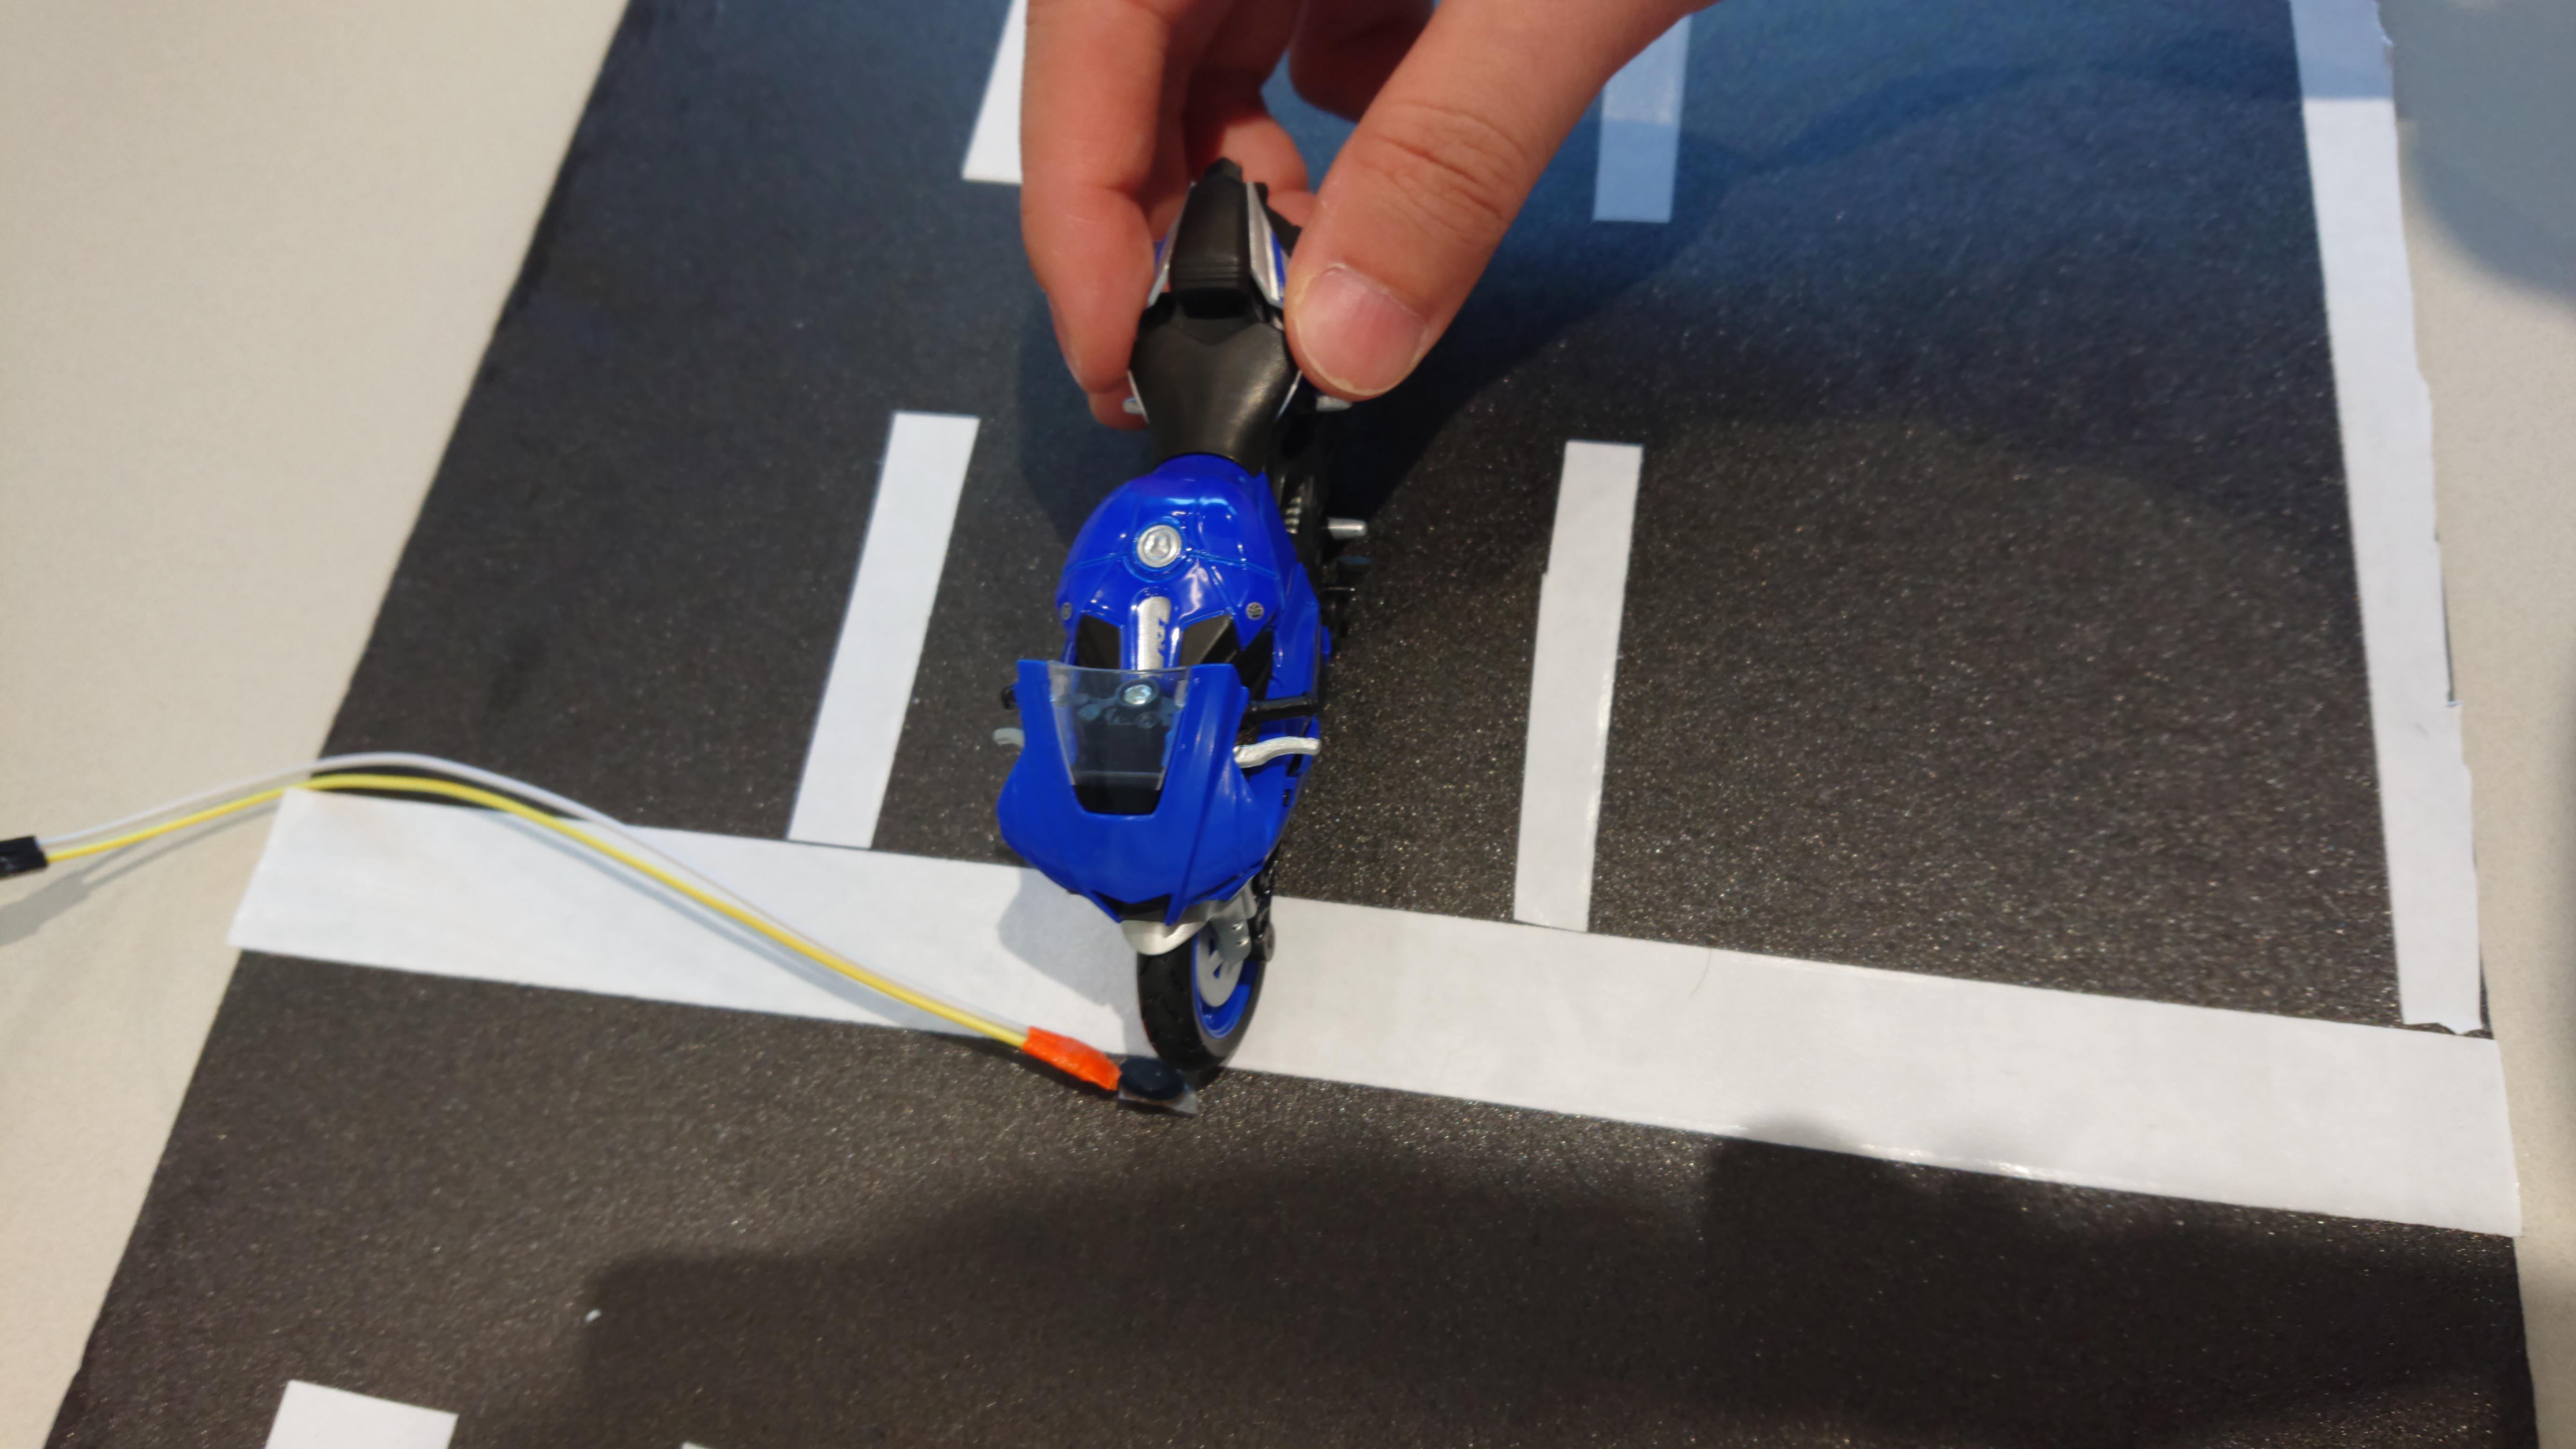Motorcycle: (978, 157, 1401, 1097)
